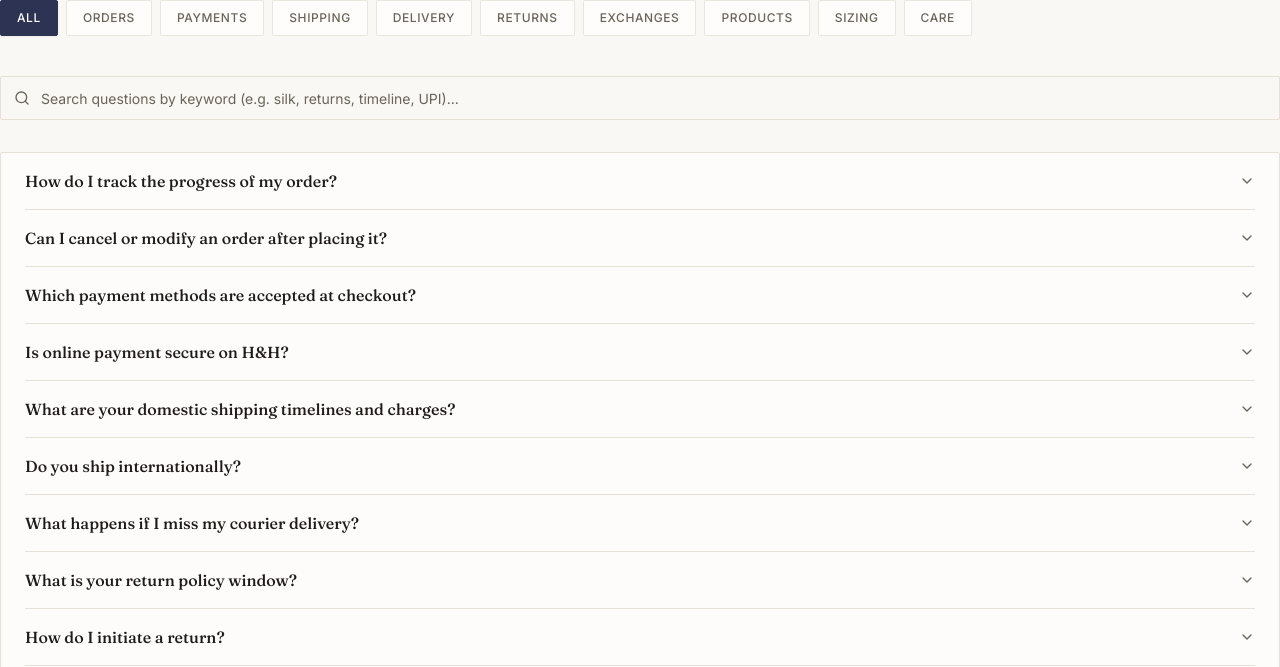
Test: Frequently Asked Questions (/faq) › filters questions by search query and displays empty state on miss
// Search for "silk"
Replace the text in the search field named "Search frequently asked questions" with "silk": (640, 98) x1=0 y1=76 x2=1279 y2=120
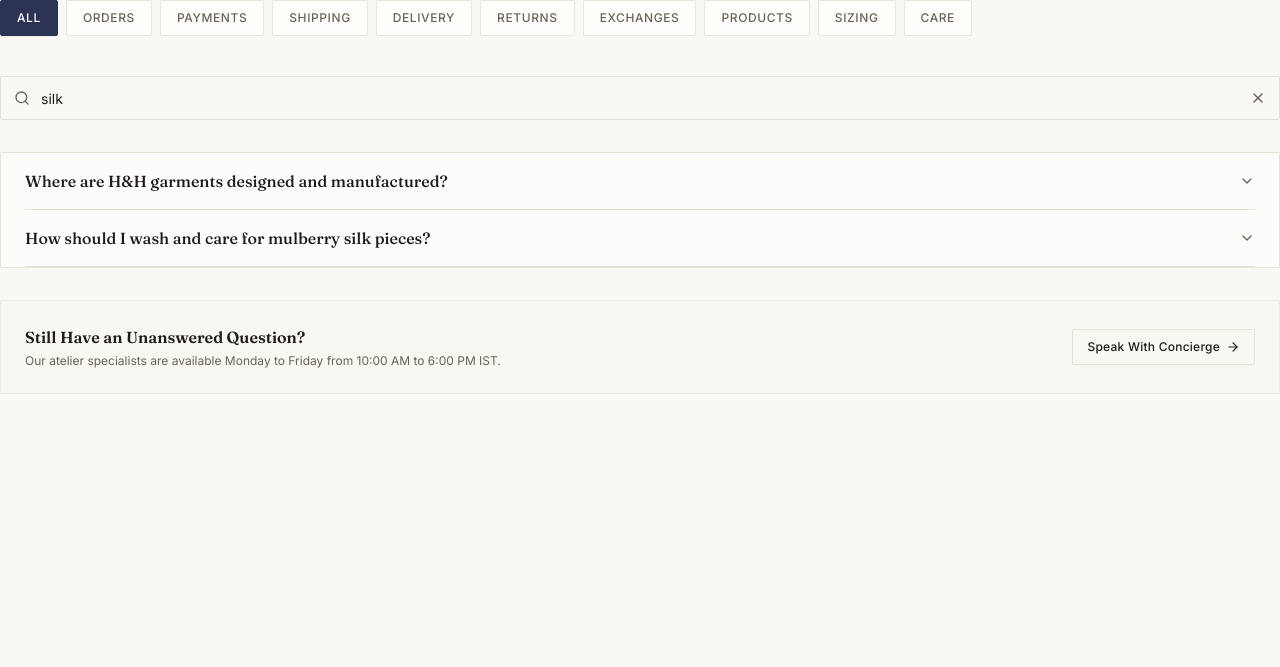
Expected: the button "How should I wash and care for mulberry silk pieces?" is shown, x1=25 y1=210 x2=1255 y2=266
// Search for non-existent keyword
Replace the text in the search field named "Search frequently asked questions" with "nonexistent-query-xyz": (640, 98) x1=0 y1=76 x2=1279 y2=120
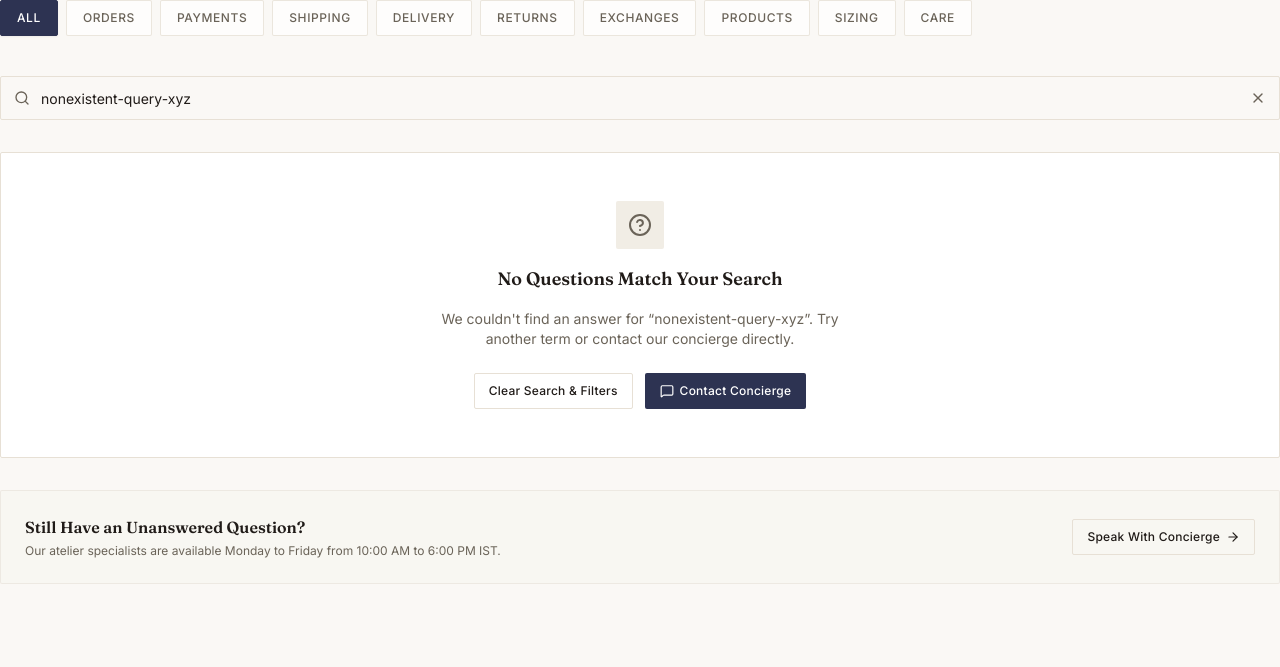
Now the heading "No Questions Match Your Search" is shown, box x1=497 y1=267 x2=783 y2=290
Now the button "Clear Search & Filters" is shown
// Clear search restores items
Click the button "Clear Search & Filters": (553, 391) x1=474 y1=373 x2=633 y2=409
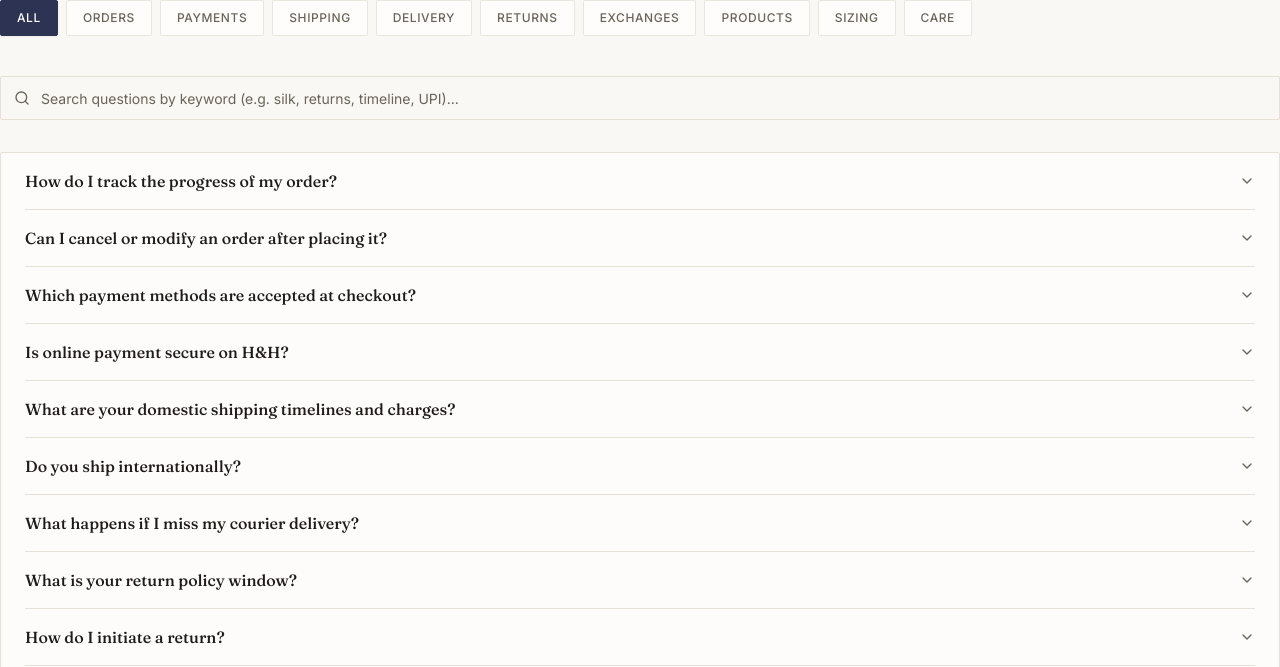
Now the heading "No Questions Match Your Search" is gone
